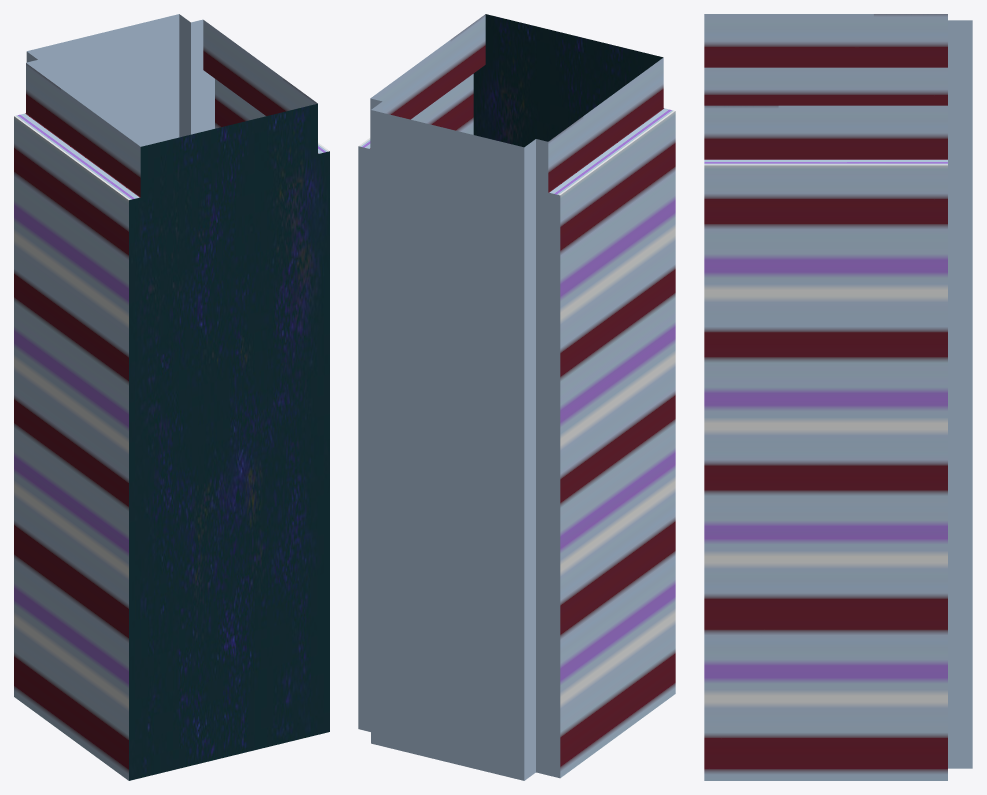
Rendered from Hall_Empty_Long_Column.fbx.
The picture shows the model from 3 angles, left to right: view 1: azimuth 30°, elevation 25°; view 2: azimuth 150°, elevation 25°; view 3: azimuth 270°, elevation 25°; orthographic projection. The views are drawn at different scales.
Visible parts, largest first — view 1: Hall_Empty_Long_Column; view 2: Hall_Empty_Long_Column; view 3: Hall_Empty_Long_Column.
Boxes of the visible parts, x1,y1,x2,y2 form: Hall_Empty_Long_Column: (14, 14, 329, 780); Hall_Empty_Long_Column: (358, 14, 675, 780); Hall_Empty_Long_Column: (704, 14, 972, 780).
Size of the model in its own units: 200 by 600 by 218.
2 materials, 2 textured.
